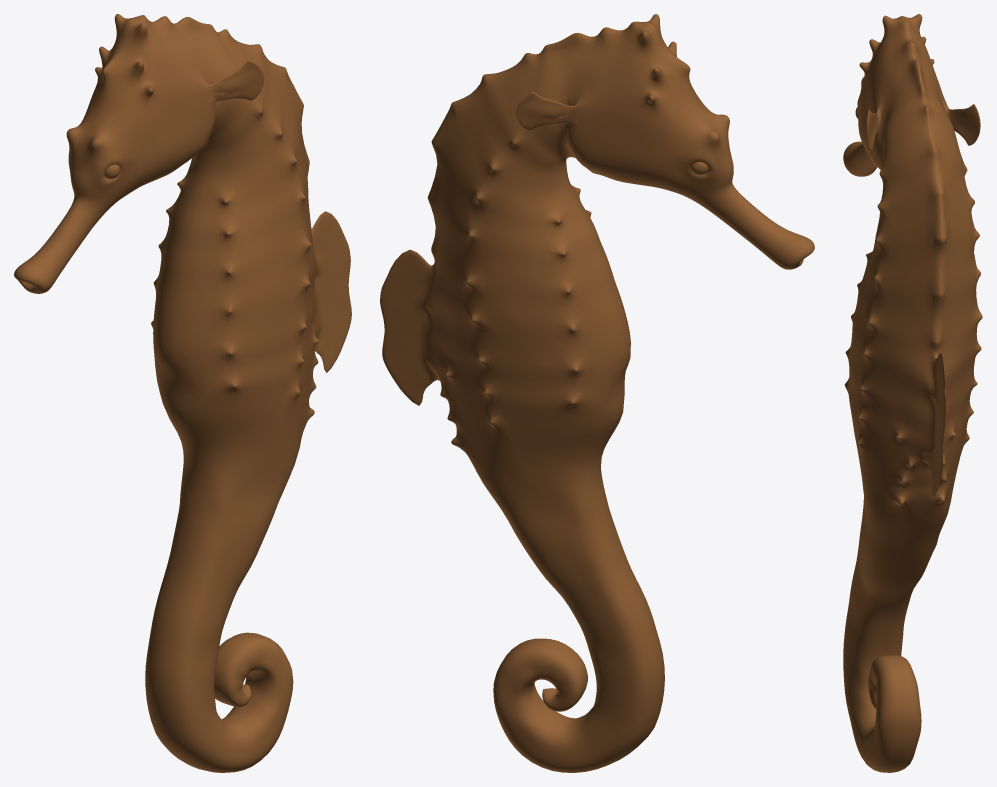
Rendered from Sea_Horse.fbx.
3 views of the same model, side by side, from view 1: azimuth 30°, elevation 25°; view 2: azimuth 150°, elevation 25°; view 3: azimuth 270°, elevation 25° (orthographic). The views are drawn at different scales.
Parts seen in each view (by area): view 1: sea_horse; view 2: sea_horse; view 3: sea_horse.
Part boxes in pixels (bbox=[...]): sea_horse: bbox=[14, 14, 351, 772]; sea_horse: bbox=[380, 14, 814, 772]; sea_horse: bbox=[843, 14, 982, 772].
Bounding box in the file's own units: 217 × 417 × 74.29.
